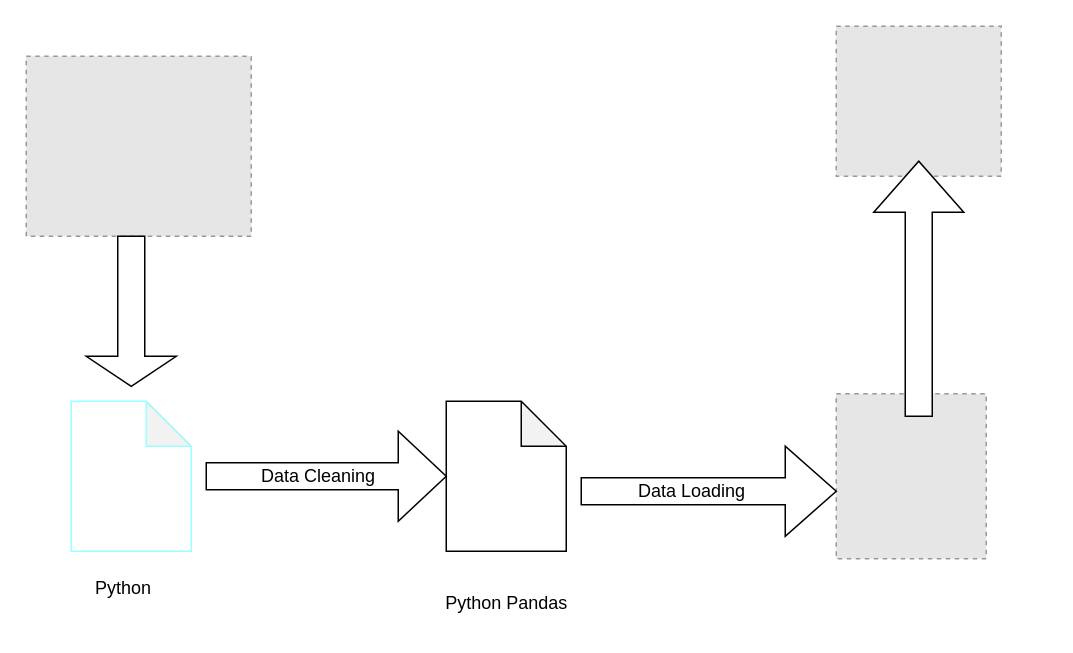
The diagram is 1073 pixels wide and 653 high, and some of its shapes have lost their labels. Grey dashed boxes stand in for pictures. The shapes that lost their labels are listed below. From the top down, each one's centre as x and y in pixels, then its label:
At [918,288]: "Data Analysis using SQL".
At [130,310]: "Download from Kaggle".
